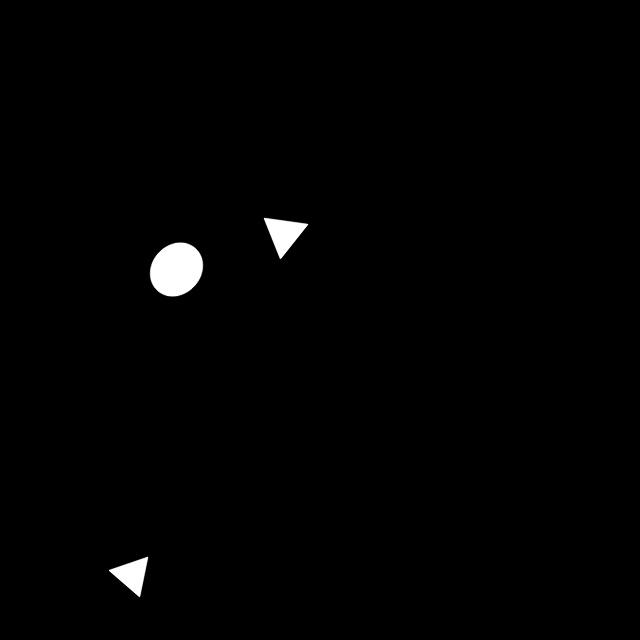Circle: (138, 227, 212, 312)
Triangle: (97, 537, 159, 614), (254, 200, 320, 272)
